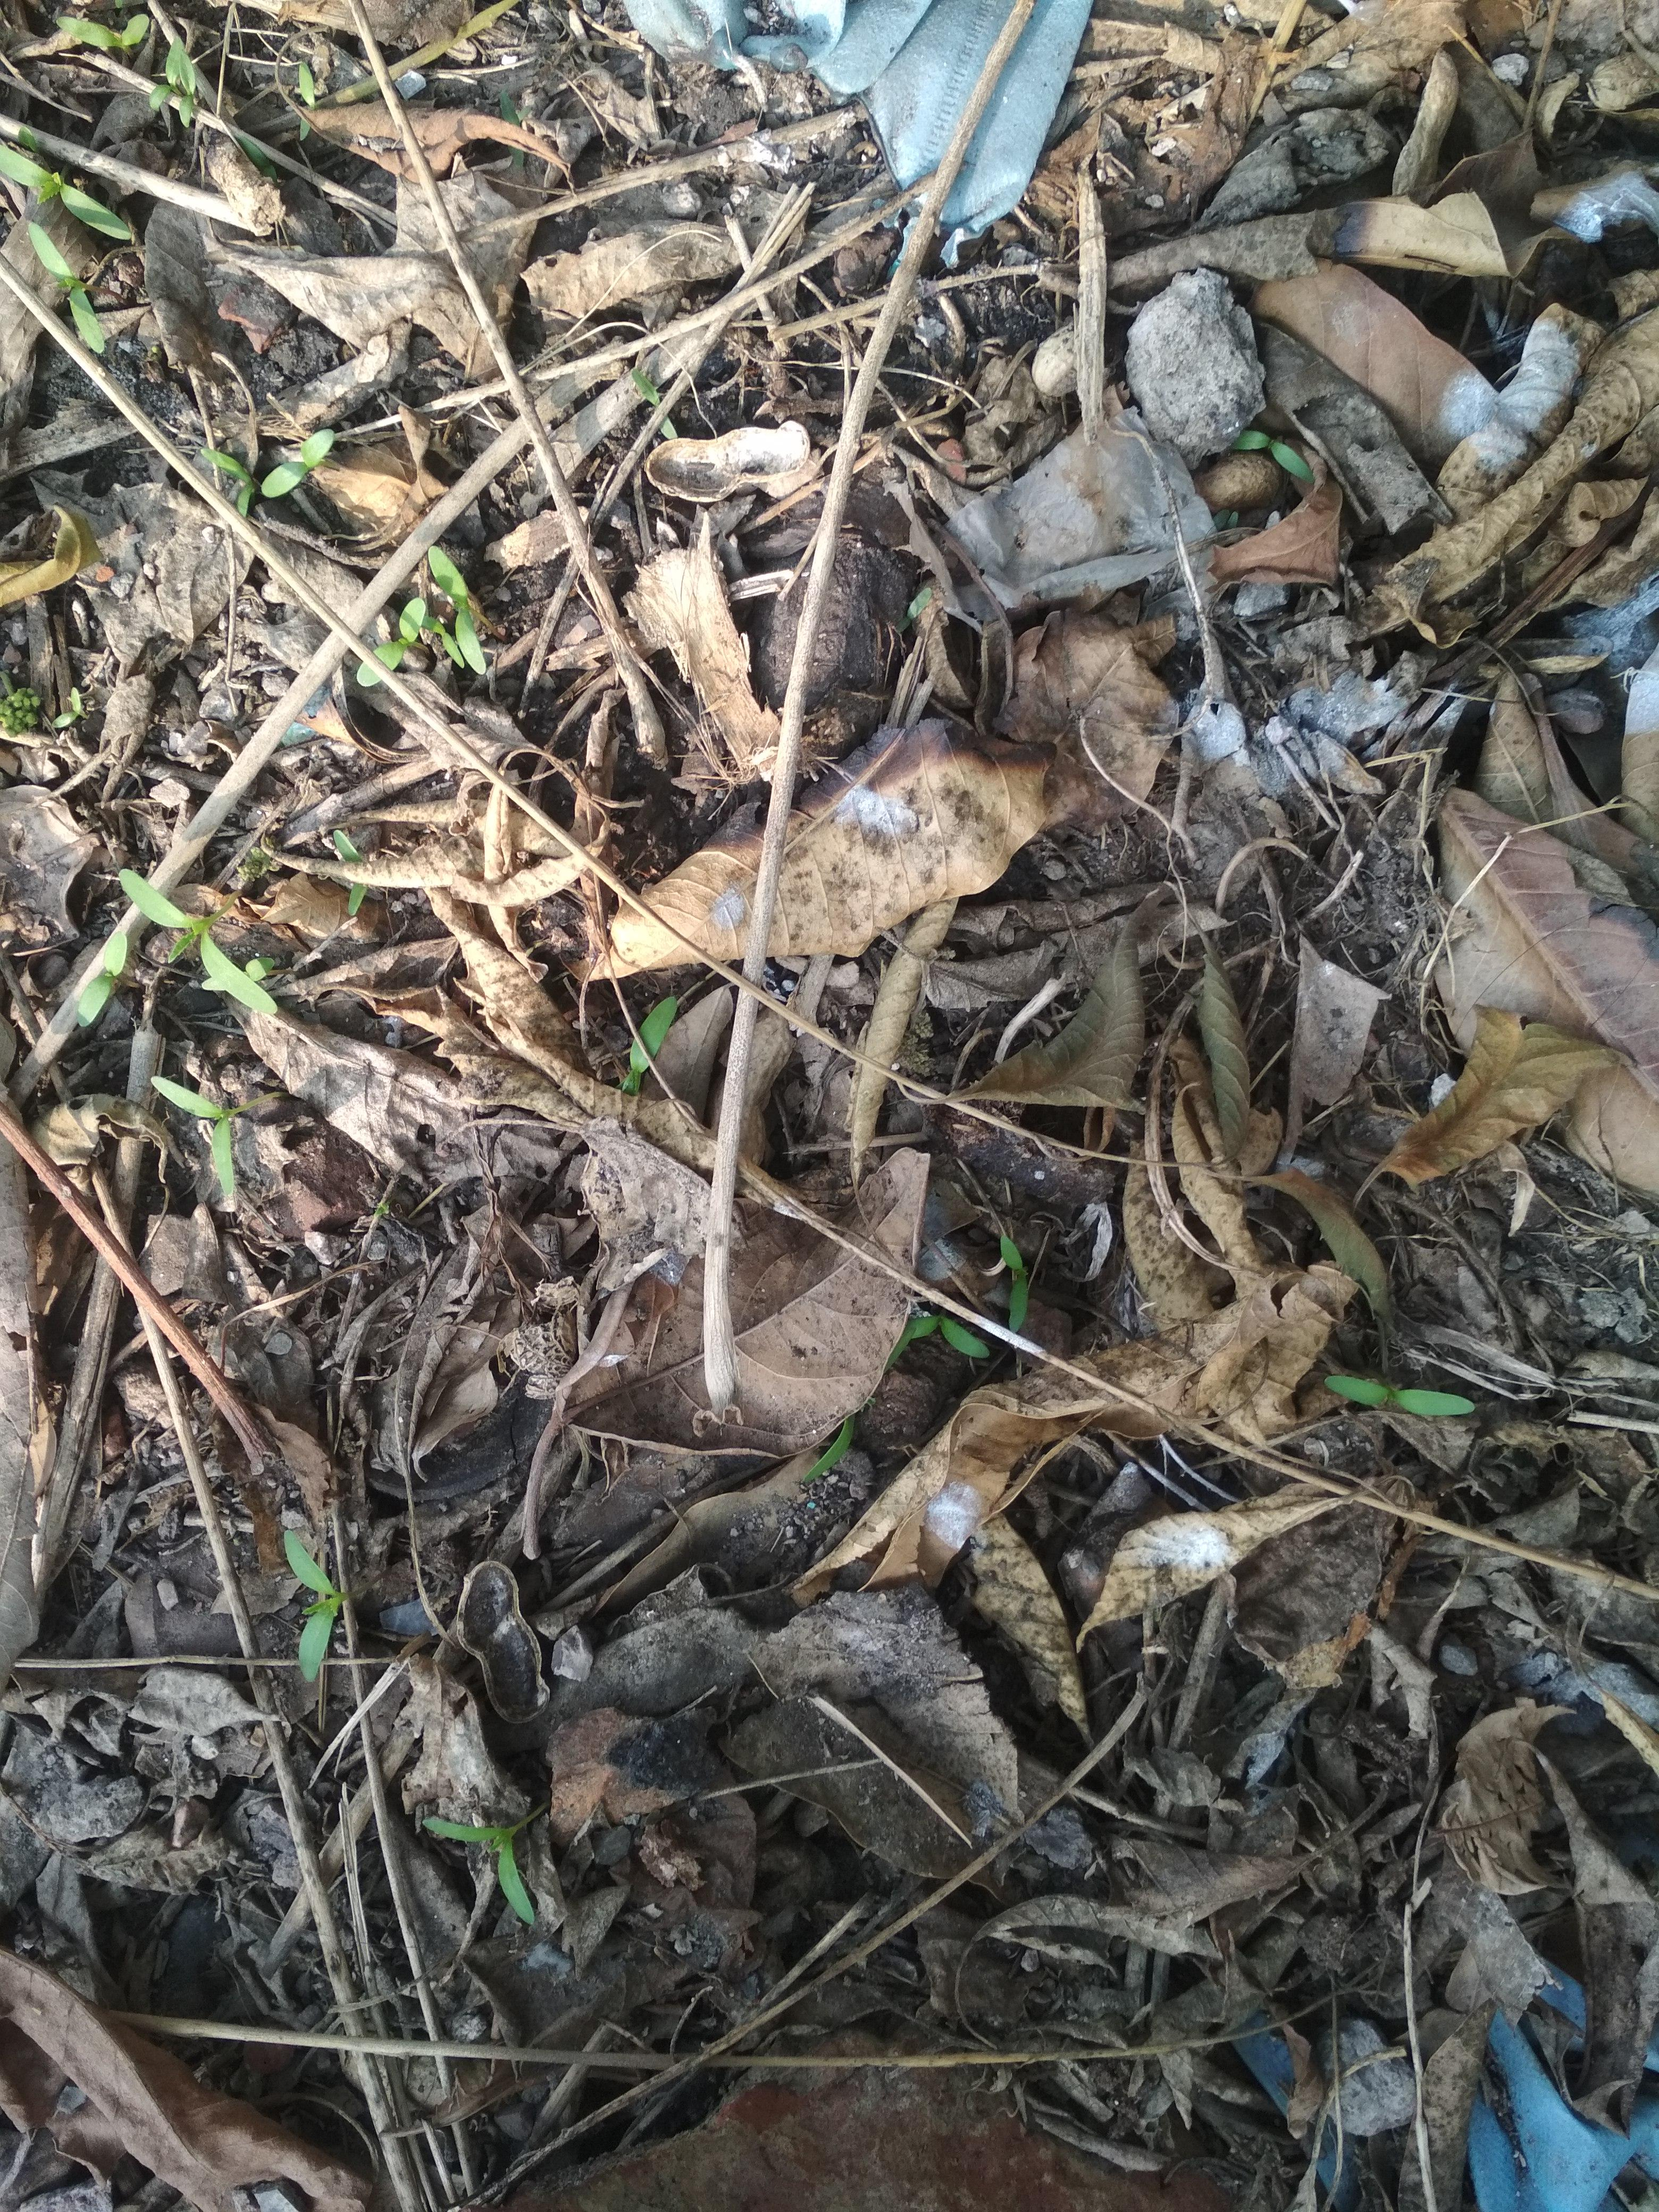dw: (749, 2, 1659, 691)
